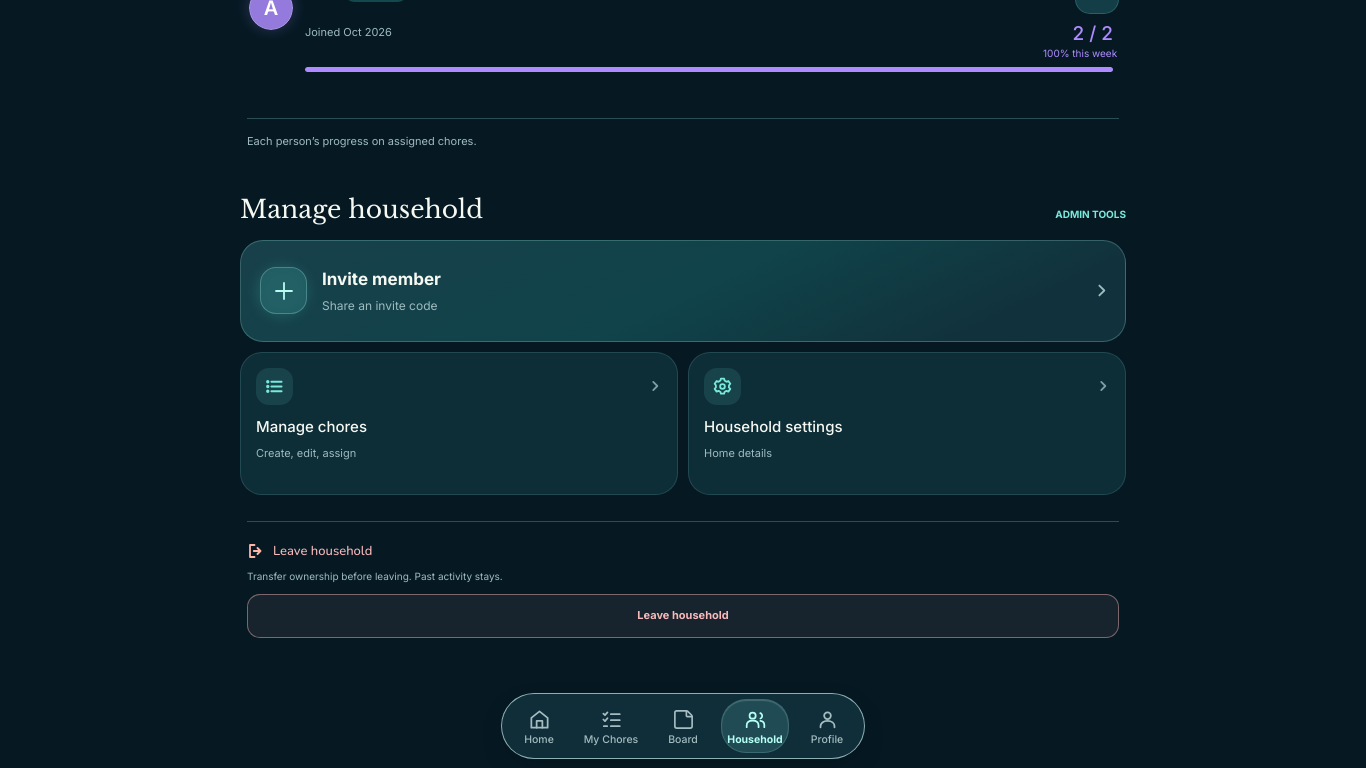
Test case: HouseholdScreen owner leave confirmation › Continue only advances to confirmation and never submits a leave or transfer request
(page scrolled)
Click the button "Leave household". click: (683, 616)
box: [247,594,1119,638]
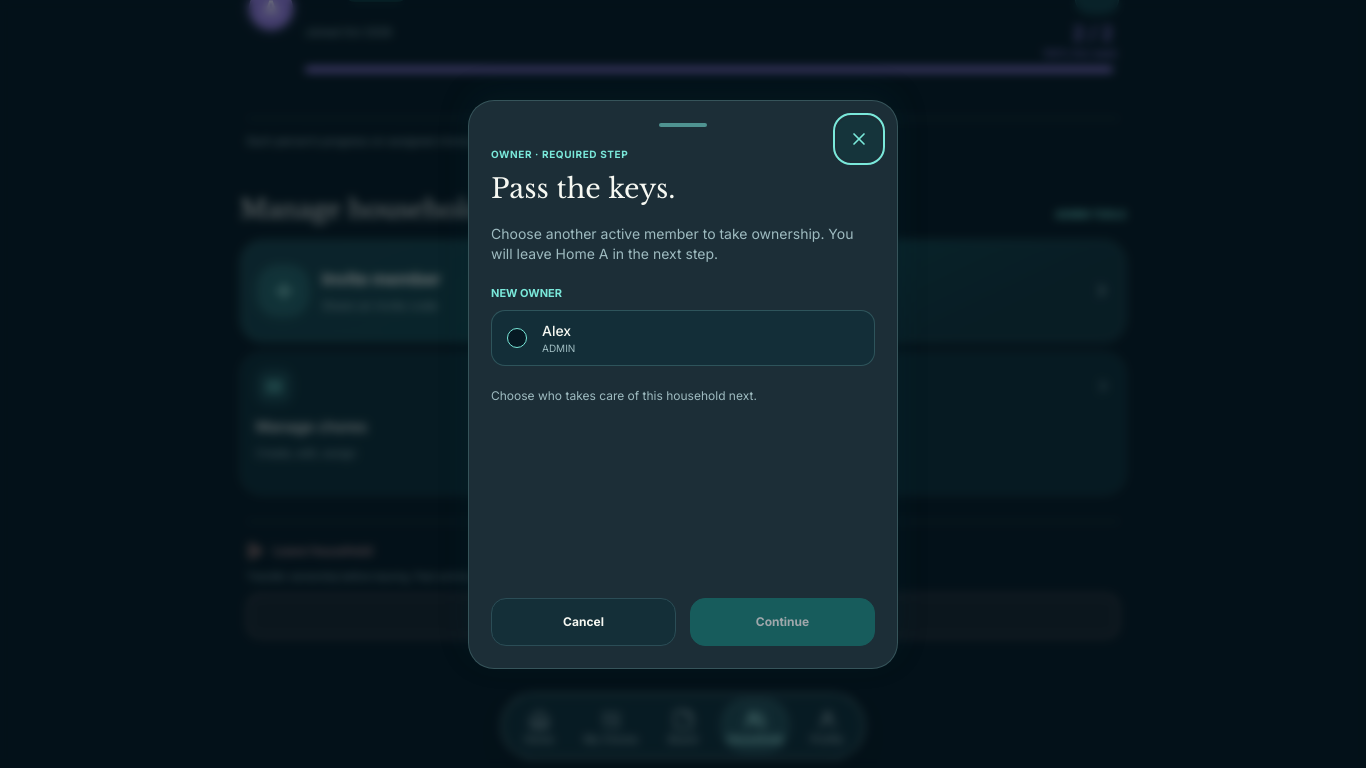
Click the radio button labelled "Alex Admin". click: (517, 338)
box: [507,328,527,348]
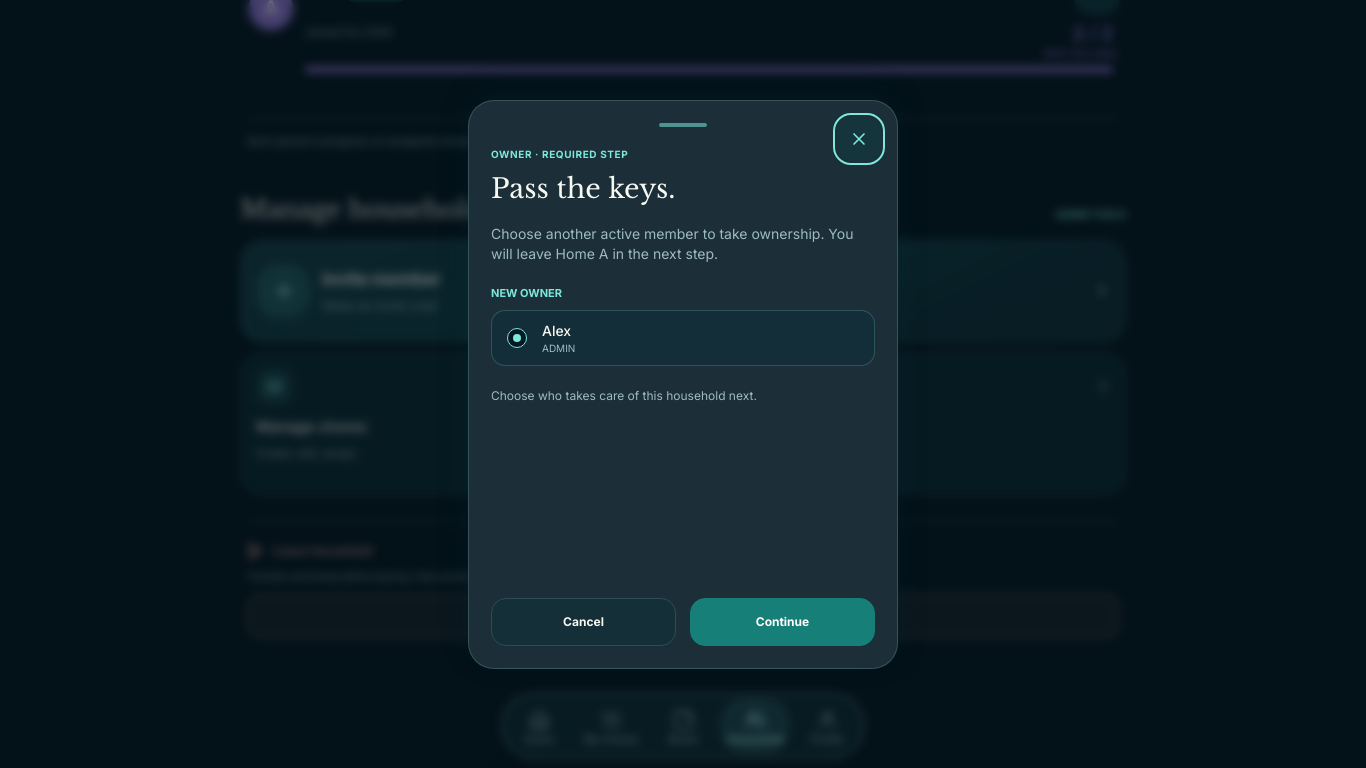
Click the button "Continue". click: (782, 622)
box: [690,598,875,646]
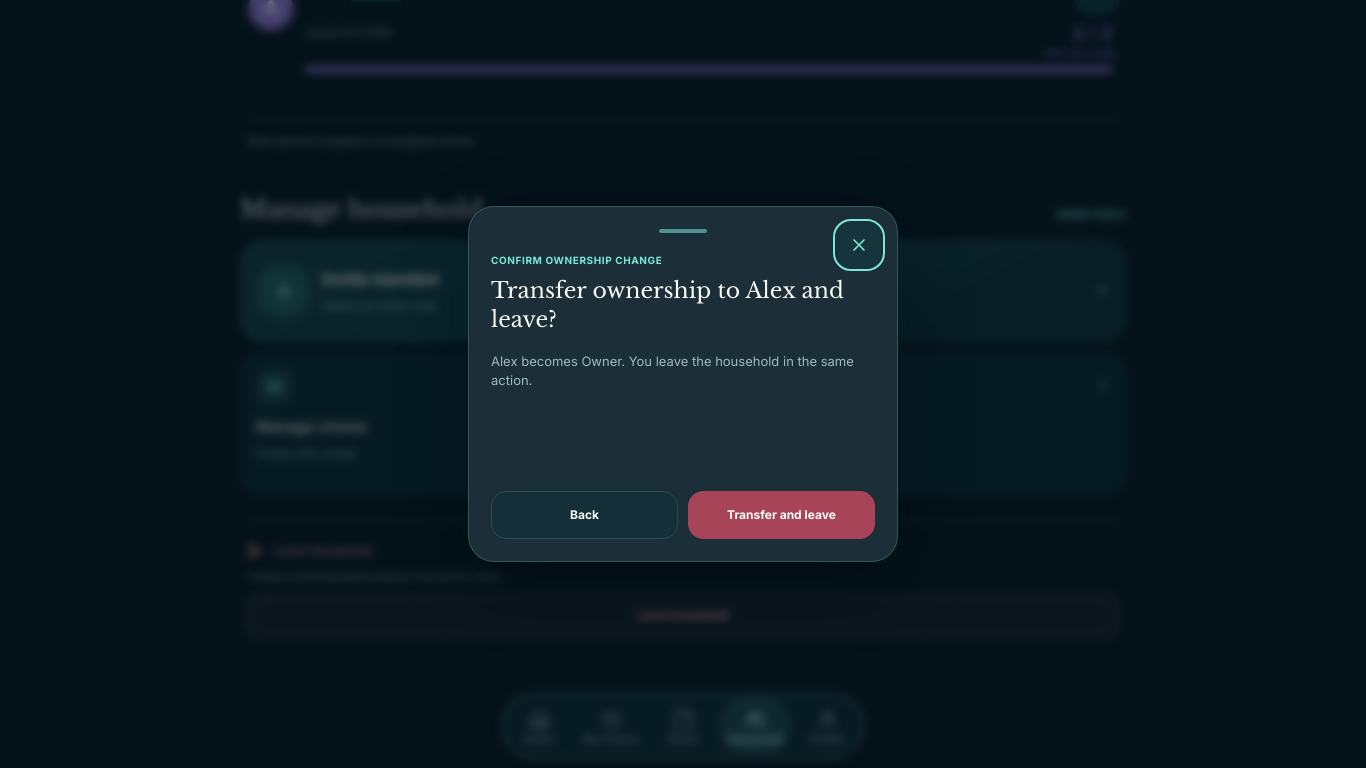
Expected: the heading "Transfer ownership to Alex and leave?" is shown, [491,277,875,334]
Expected: the text "Alex becomes Owner. You leave the household in the same action." is shown, [491,352,875,390]
